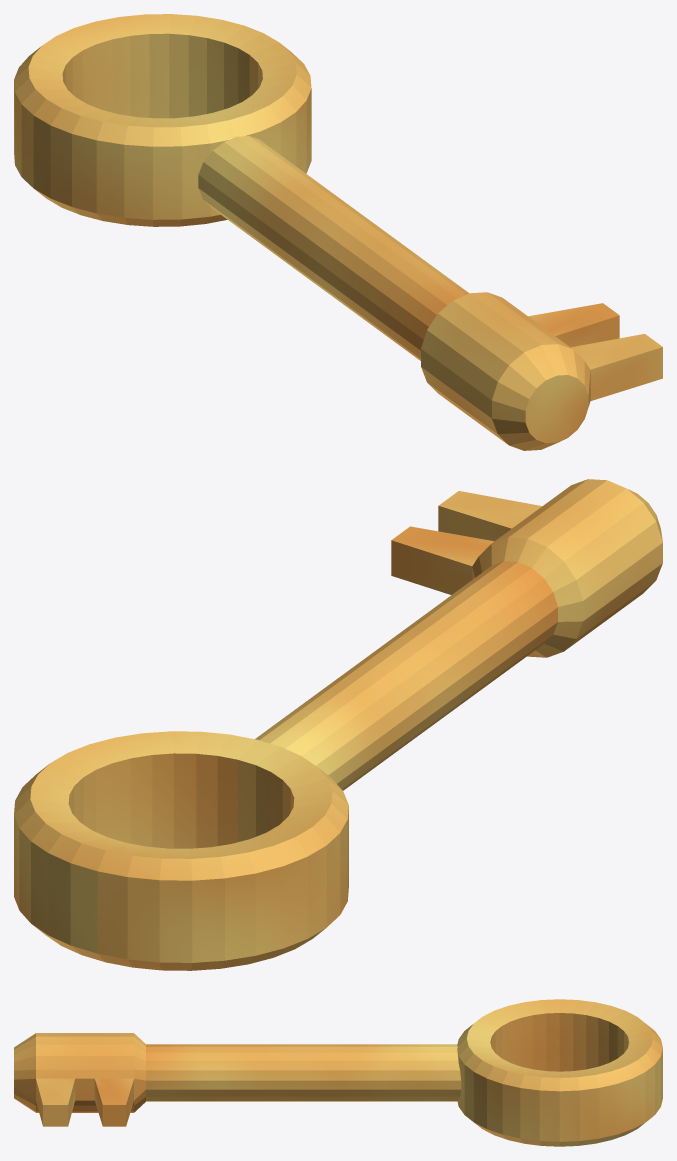
The model's file is Key.fbx.
The picture shows the model from 3 angles, top to bottom: view 1: azimuth 30°, elevation 25°; view 2: azimuth 150°, elevation 25°; view 3: azimuth 270°, elevation 25°; orthographic projection. The views are drawn at different scales.
Visible parts, largest first — view 1: Circle; view 2: Circle; view 3: Circle.
Boxes of the visible parts, <box> form: Circle: <box>14,14,662,450</box>; Circle: <box>14,479,662,970</box>; Circle: <box>14,999,662,1146</box>.
Bounding box in the file's own units: 8.79 × 3.41 × 27.64.
